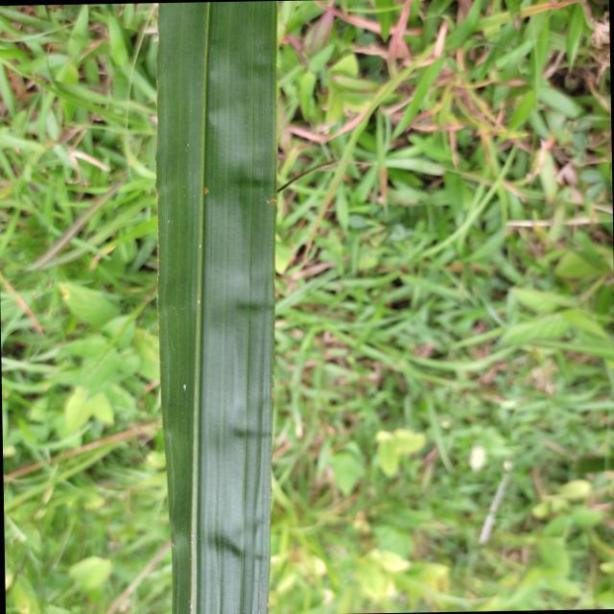Boron: (157, 0, 283, 614)
